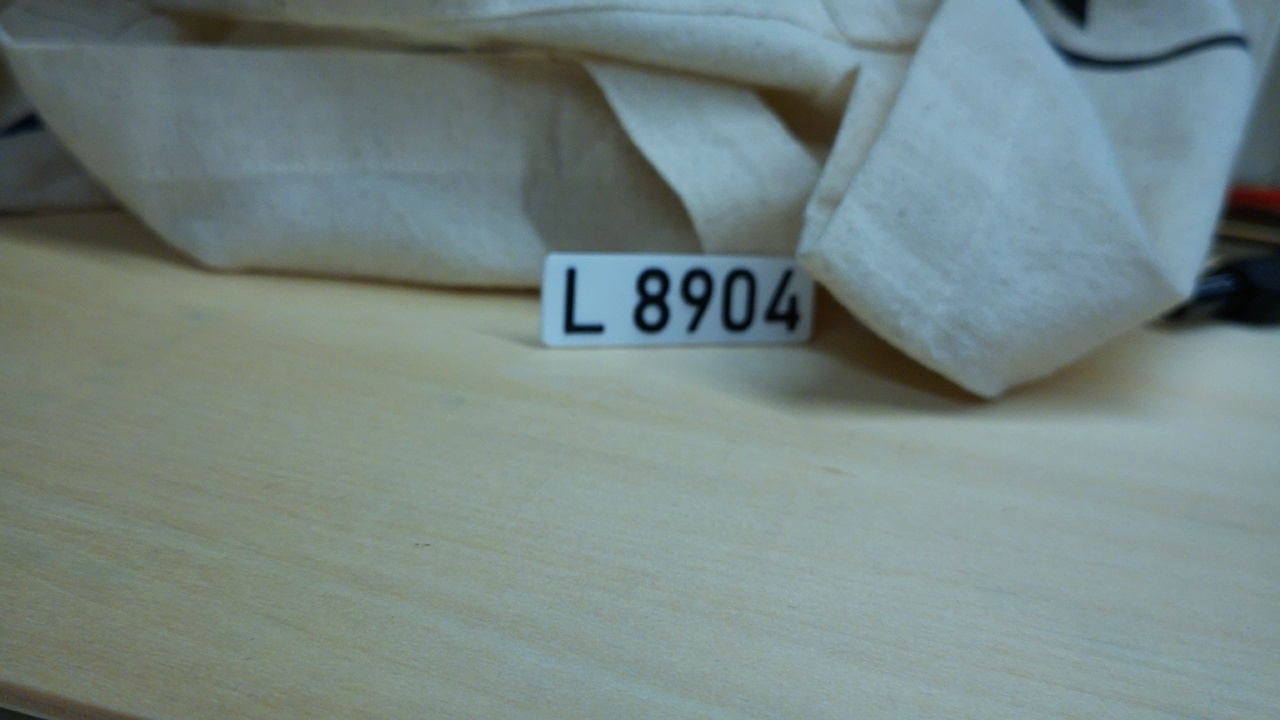license_plate: (538, 249, 817, 352)
